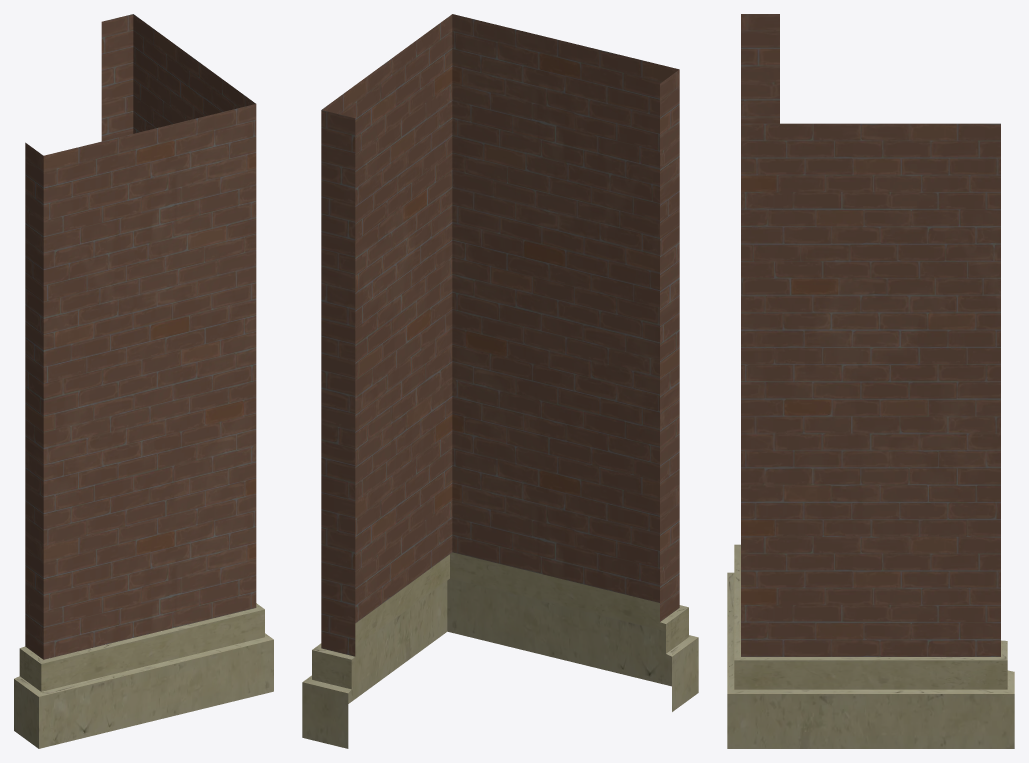
The model's file is Brick_CornerColumn_Bottom.glb.
3 renders of one model, left to right at view 1: azimuth 30°, elevation 25°; view 2: azimuth 150°, elevation 25°; view 3: azimuth 270°, elevation 25°, orthographic. The views are drawn at different scales.
Visible parts, largest first — view 1: Brick_CornerColumn_Bottom; view 2: Brick_CornerColumn_Bottom; view 3: Brick_CornerColumn_Bottom.
Boxes of the visible parts, x1,y1,x2,y2 form: Brick_CornerColumn_Bottom: [14, 14, 273, 748]; Brick_CornerColumn_Bottom: [302, 14, 698, 748]; Brick_CornerColumn_Bottom: [727, 14, 1014, 748].
Size of the model in its own units: 1.26 by 3 by 1.26.
2 materials, 2 textured.
